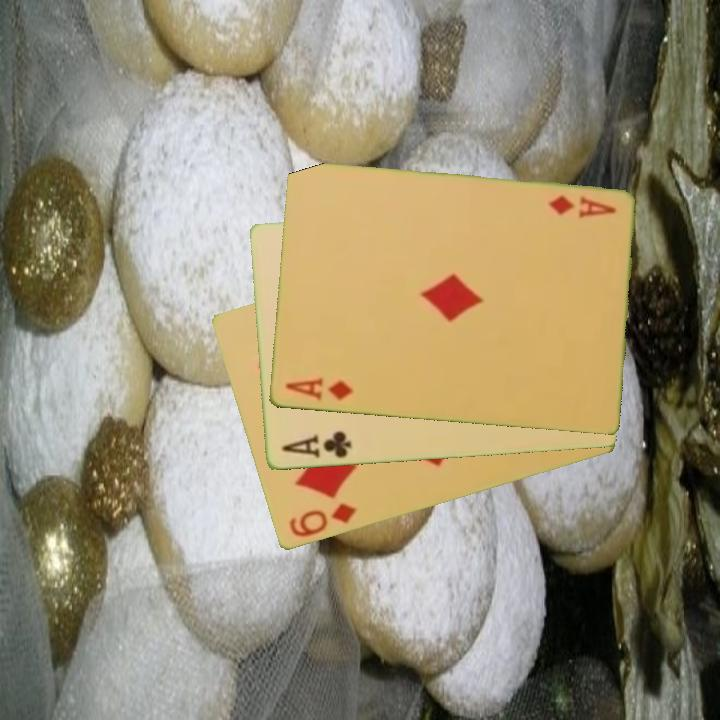6d: (285, 500, 360, 541)
Ac: (277, 428, 354, 462)
Ad: (281, 374, 355, 404), (544, 192, 619, 221)
